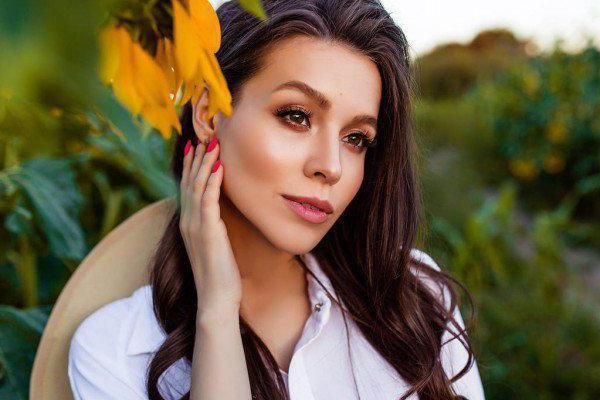Sober: (226, 44, 368, 243)
